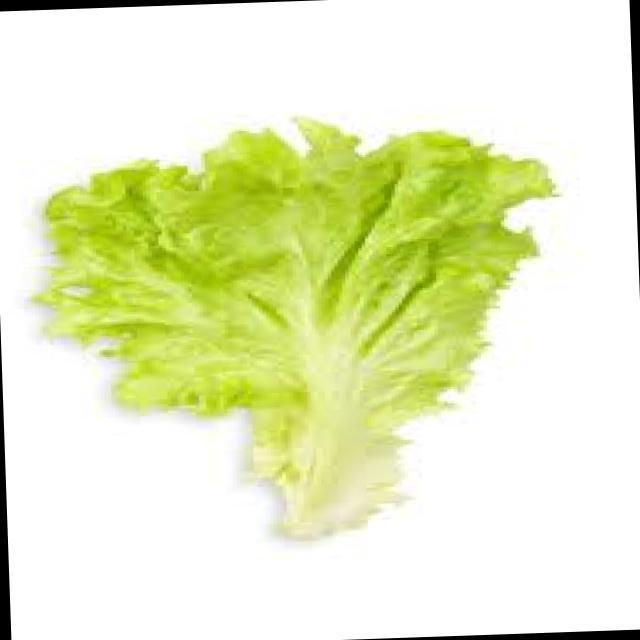Lettuce: (6, 79, 596, 592)
